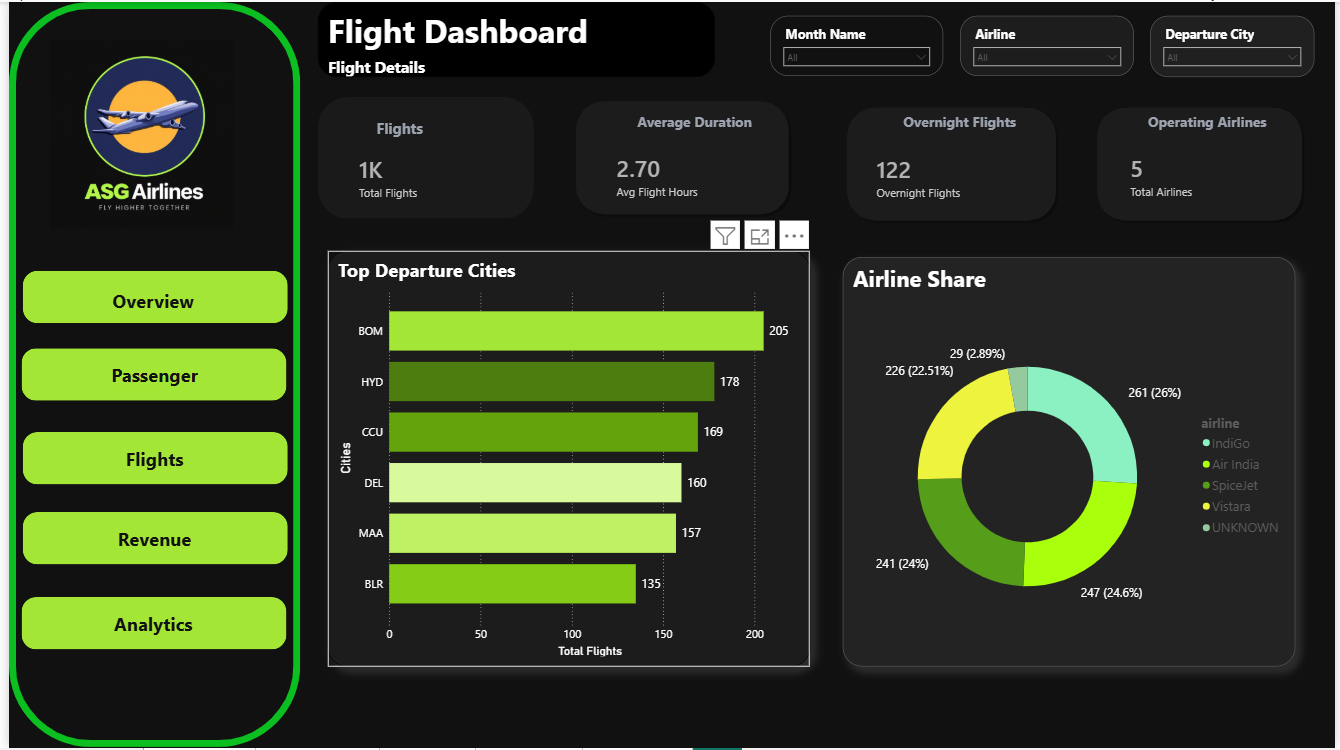

What the dashboard file says about the page in this screenshot:
{"tool":"powerbi","page":{"name":"Flights","canvas":[1920,1080],"ordinal":2},"visuals":[{"type":"shape","box":[0,0,421.7,1078.6],"z":0},{"type":"textbox","title":"Flight Dashboard","box":[447,0,575.5,108.6],"z":1000},{"type":"image","box":[30.8,54.3,322.1,273.3],"z":2000},{"type":"shape","box":[19.9,389.1,383.6,76],"z":3000},{"type":"textbox","title":"Overview","box":[137.5,414.4,143,36.2],"z":4000},{"type":"shape","box":[18.1,501.3,383.6,76],"z":5000},{"type":"shape","box":[19.9,622.5,383.6,76],"z":6000},{"type":"shape","box":[19.9,738.3,383.6,76],"z":7000},{"type":"shape","box":[18.1,861.4,383.6,76],"z":8000},{"type":"textbox","title":"Passengers","box":[139.3,521.2,143,36.2],"z":9000},{"type":"textbox","title":"Flights","box":[139.3,642.4,143,36.2],"z":10000},{"type":"textbox","title":"Analytics","box":[137.5,881.3,143,36.2],"z":11000},{"type":"textbox","title":"Revenue","box":[139.3,758.2,143,36.2],"z":12000},{"type":"shape","box":[447.8,136.7,313.1,176.3],"z":13000},{"type":"textbox","title":"Flights","box":[477.8,168.3,175.5,38],"z":14000},{"type":"shape","box":[814.4,136.7,321,176.3],"z":15000},{"type":"shape","box":[1206.7,146.6,315,176.3],"z":16000},{"type":"textbox","title":"Average Duration","box":[872.3,159.3,240.7,86.9],"z":17000},{"type":"textbox","box":[1022.5,389.1,224.4,86.9],"z":18000},{"type":"shape","box":[1569.3,146.6,309.1,176.3],"z":19000},{"type":"textbox","title":"Overnight Flights","box":[1255.9,159.3,240.7,86.9],"z":20000},{"type":"textbox","title":" Operating Airlines","box":[1614.2,159.3,240.7,86.9],"z":21000},{"type":"cardVisual","fields":{"Data":["flights.Total Flights"]},"box":[477.5,190.2,283.3,114.9],"z":22000},{"type":"cardVisual","fields":{"Data":["flights.Avg Flight Hours"]},"box":[850,188.2,283.3,114.9],"z":23000},{"type":"clusteredBarChart","title":"Top Departure Cities","fields":{"Category":["flights.source"],"Y":["flights.Total Flights"]},"box":[461.5,360.1,698.5,602.6],"z":24000},{"type":"donutChart","title":"Airline Share","fields":{"Category":["flights.airline"],"Y":["flights.Total Flights"]},"box":[1207.1,369.6,655.4,592.9],"z":25000},{"type":"cardVisual","fields":{"Data":["flights.Overnight Flights"]},"box":[1226.8,189.3,275,133.9],"z":26000},{"type":"cardVisual","fields":{"Data":["flights.Total Airlines"]},"box":[1594.3,188.2,284.1,114],"z":27000},{"type":"slicer","fields":{"Values":["bookings.Month Name"]},"box":[1101.6,20.3,250,87.5],"z":28000},{"type":"slicer","fields":{"Values":["flights.airline"]},"box":[1376.6,20.3,251.6,87.5],"z":29000},{"type":"slicer","fields":{"Values":["flights.source"]},"box":[1653.1,20.3,237.5,89.1],"z":30000}]}

Visuals, with their boxes in screenshot pixels (x1, y1, x2, y2), scaled from the page's 1920x1080 canvas onto the 1340x750 screenshot:
shape: rect(0, 0, 294, 749)
"Flight Dashboard" textbox: rect(312, 0, 714, 75)
image: rect(21, 38, 246, 228)
shape: rect(14, 270, 282, 323)
"Overview" textbox: rect(96, 288, 196, 313)
shape: rect(13, 348, 280, 401)
shape: rect(14, 432, 282, 485)
shape: rect(14, 513, 282, 565)
shape: rect(13, 598, 280, 651)
"Passengers" textbox: rect(97, 362, 197, 387)
"Flights" textbox: rect(97, 446, 197, 471)
"Analytics" textbox: rect(96, 612, 196, 637)
"Revenue" textbox: rect(97, 527, 197, 552)
shape: rect(313, 95, 531, 217)
"Flights" textbox: rect(333, 117, 456, 143)
shape: rect(568, 95, 792, 217)
shape: rect(842, 102, 1062, 224)
"Average Duration" textbox: rect(609, 111, 777, 171)
textbox: rect(714, 270, 870, 331)
shape: rect(1095, 102, 1311, 224)
"Overnight Flights" textbox: rect(877, 111, 1045, 171)
" Operating Airlines" textbox: rect(1127, 111, 1295, 171)
cardVisual - flights.Total Flights: rect(333, 132, 531, 212)
cardVisual - flights.Avg Flight Hours: rect(593, 131, 791, 210)
"Top Departure Cities" clusteredBarChart: rect(322, 250, 810, 669)
"Airline Share" donutChart: rect(842, 257, 1300, 668)
cardVisual - flights.Overnight Flights: rect(856, 131, 1048, 224)
cardVisual - flights.Total Airlines: rect(1113, 131, 1311, 210)
slicer - bookings.Month Name: rect(769, 14, 943, 75)
slicer - flights.airline: rect(961, 14, 1136, 75)
slicer - flights.source: rect(1154, 14, 1319, 76)
